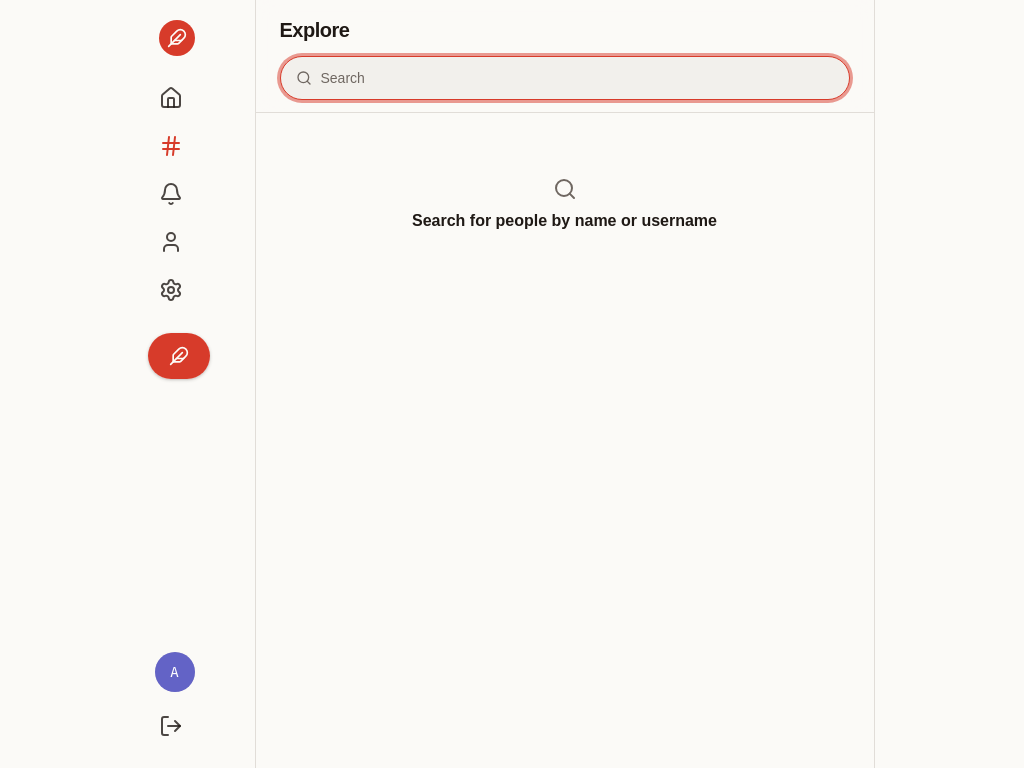
Explore › updates ?q= (replacing the entry) after typing, keeping other params, and searches
The width and height of the screenshot is (1024, 768).
Check: the text "Search for people by name or username" is shown, box [412,209,717,233]
Type "gra" into the search field named "Search users" at [564, 78], box [280,56,850,100]
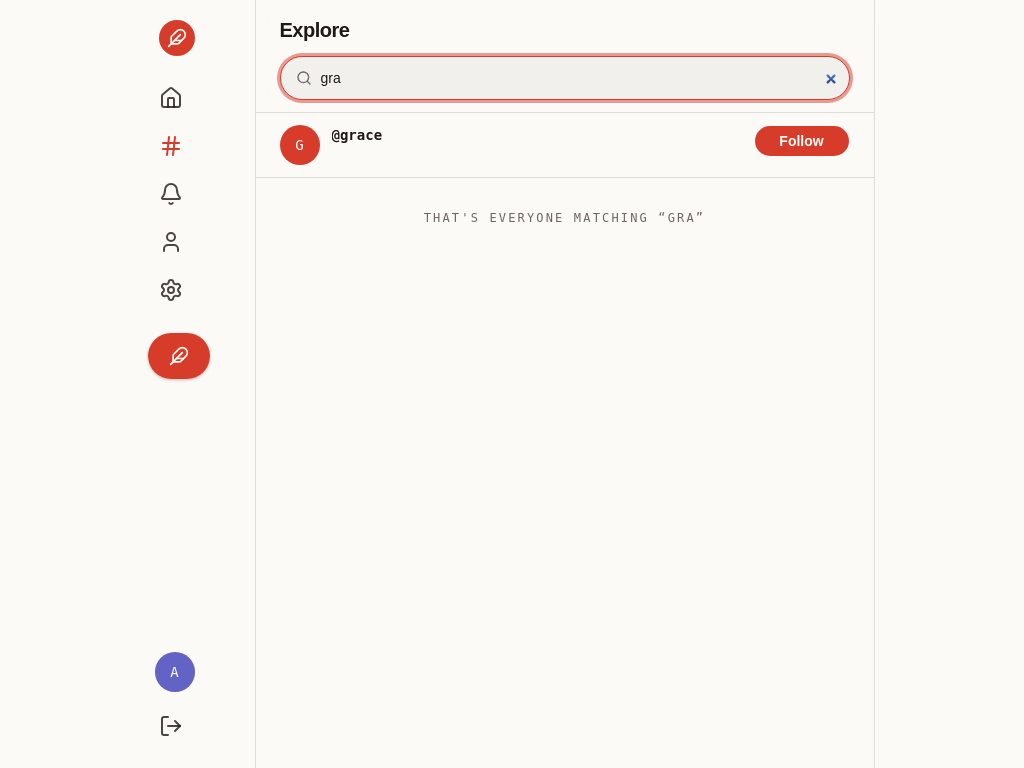
Check: the link "@grace" is shown, box [332,127,382,143]
